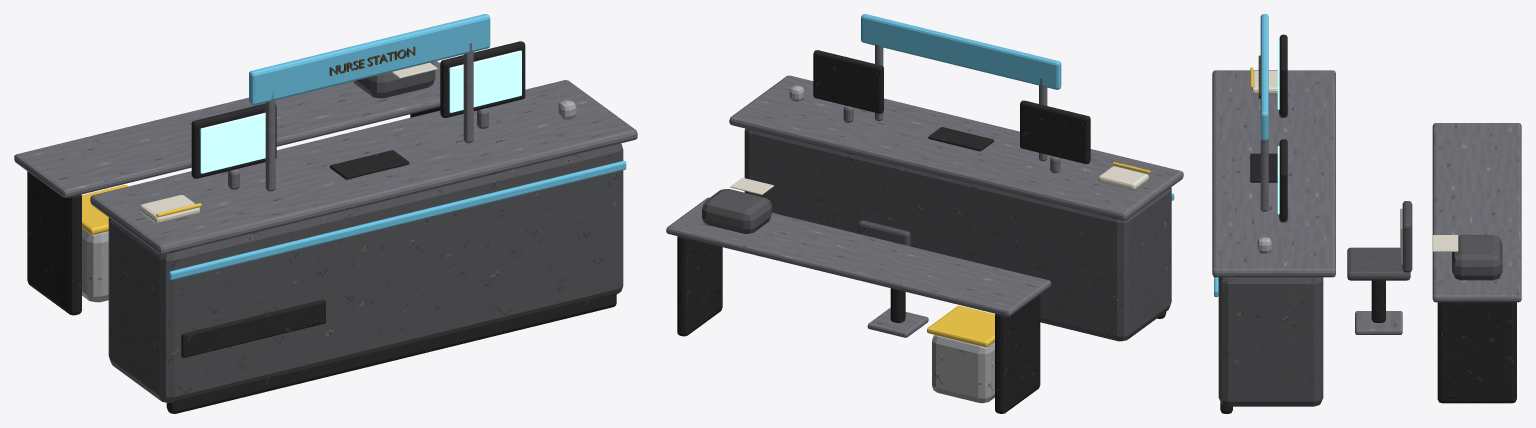
File: decor_med_nurse_station.glb
3 views of the same model, side by side, from view 1: azimuth 30°, elevation 25°; view 2: azimuth 150°, elevation 25°; view 3: azimuth 270°, elevation 25° (orthographic). The views are drawn at different scales.
Parts seen in each view (by area): view 1: DEC_MedNurseStation__Counter_Body, DEC_MedNurseStation__Counter_Top, DEC_MedNurseStation__Worktop, DEC_MedNurseStation__Sign_Board, DEC_MedNurseStation__Counter_Kick, DEC_MedNurseStation__Worktop_Leg_-1, DEC_MedNurseStation__Counter_Band, DEC_MedNurseStation__Counter_Vent, DEC_MedNurseStation__Monitor_Glow_L, DEC_MedNurseStation__Monitor_Glow_R, DEC_MedNurseStation__Worktop_Bin, DEC_MedNurseStation__Monitor_Bezel_R (+8 smaller); view 2: DEC_MedNurseStation__Counter_Body, DEC_MedNurseStation__Counter_Top, DEC_MedNurseStation__Worktop, DEC_MedNurseStation__Sign_Board, DEC_MedNurseStation__Worktop_Leg_-1, DEC_MedNurseStation__Worktop_Leg_1, DEC_MedNurseStation__Worktop_Bin, DEC_MedNurseStation__Monitor_Bezel_L, DEC_MedNurseStation__Monitor_Bezel_R, DEC_MedNurseStation__Worktop_Printer, DEC_MedNurseStation__Worktop_Bin_Lid, DEC_MedNurseStation__Chair_Foot (+4 smaller); view 3: DEC_MedNurseStation__Counter_Top, DEC_MedNurseStation__Counter_Body, DEC_MedNurseStation__Worktop, DEC_MedNurseStation__Worktop_Leg_1, DEC_MedNurseStation__Worktop_Printer, DEC_MedNurseStation__Chair_Seat, DEC_MedNurseStation__Sign_Board, DEC_MedNurseStation__Chair_Foot, DEC_MedNurseStation__Chair_Back, DEC_MedNurseStation__Monitor_Bezel_L, DEC_MedNurseStation__Monitor_Bezel_R, DEC_MedNurseStation__Sign_Post_1 (+4 smaller).
Boxes of the visible parts, x1,y1,x2,y2 form: DEC_MedNurseStation__Counter_Body: (108, 143, 623, 402); DEC_MedNurseStation__Counter_Top: (90, 80, 637, 254); DEC_MedNurseStation__Worktop: (14, 61, 440, 197); DEC_MedNurseStation__Sign_Board: (249, 14, 490, 105); DEC_MedNurseStation__Counter_Kick: (166, 293, 616, 413); DEC_MedNurseStation__Worktop_Leg_-1: (27, 171, 81, 315); DEC_MedNurseStation__Counter_Band: (169, 160, 626, 280); DEC_MedNurseStation__Counter_Vent: (181, 299, 325, 357); DEC_MedNurseStation__Monitor_Glow_L: (200, 112, 265, 173); DEC_MedNurseStation__Monitor_Glow_R: (449, 50, 521, 112); DEC_MedNurseStation__Worktop_Bin: (82, 228, 108, 302); DEC_MedNurseStation__Monitor_Bezel_R: (440, 41, 525, 117); DEC_MedNurseStation__Counter_Body: (744, 128, 1171, 341); DEC_MedNurseStation__Counter_Top: (729, 75, 1183, 220); DEC_MedNurseStation__Worktop: (666, 197, 1051, 316); DEC_MedNurseStation__Sign_Board: (861, 14, 1061, 89); DEC_MedNurseStation__Worktop_Leg_-1: (995, 294, 1040, 413); DEC_MedNurseStation__Worktop_Leg_1: (677, 236, 722, 336); DEC_MedNurseStation__Worktop_Bin: (932, 334, 994, 403); DEC_MedNurseStation__Monitor_Bezel_L: (1020, 100, 1090, 163); DEC_MedNurseStation__Monitor_Bezel_R: (813, 50, 883, 113); DEC_MedNurseStation__Worktop_Printer: (702, 189, 771, 233); DEC_MedNurseStation__Worktop_Bin_Lid: (927, 305, 994, 347); DEC_MedNurseStation__Chair_Foot: (867, 308, 928, 337); DEC_MedNurseStation__Counter_Top: (1212, 70, 1335, 277); DEC_MedNurseStation__Counter_Body: (1218, 277, 1323, 406); DEC_MedNurseStation__Worktop: (1432, 123, 1521, 302); DEC_MedNurseStation__Worktop_Leg_1: (1437, 302, 1516, 403); DEC_MedNurseStation__Worktop_Printer: (1452, 235, 1502, 280); DEC_MedNurseStation__Chair_Seat: (1347, 247, 1410, 280); DEC_MedNurseStation__Sign_Board: (1260, 14, 1268, 140); DEC_MedNurseStation__Chair_Foot: (1355, 311, 1402, 334); DEC_MedNurseStation__Chair_Back: (1402, 201, 1412, 272); DEC_MedNurseStation__Monitor_Bezel_L: (1279, 34, 1287, 116); DEC_MedNurseStation__Monitor_Bezel_R: (1279, 139, 1287, 220); DEC_MedNurseStation__Sign_Post_1: (1260, 139, 1268, 211).
Size of the model in its own units: 3 by 1.8 by 1.95.
9 materials, 4 textured.
